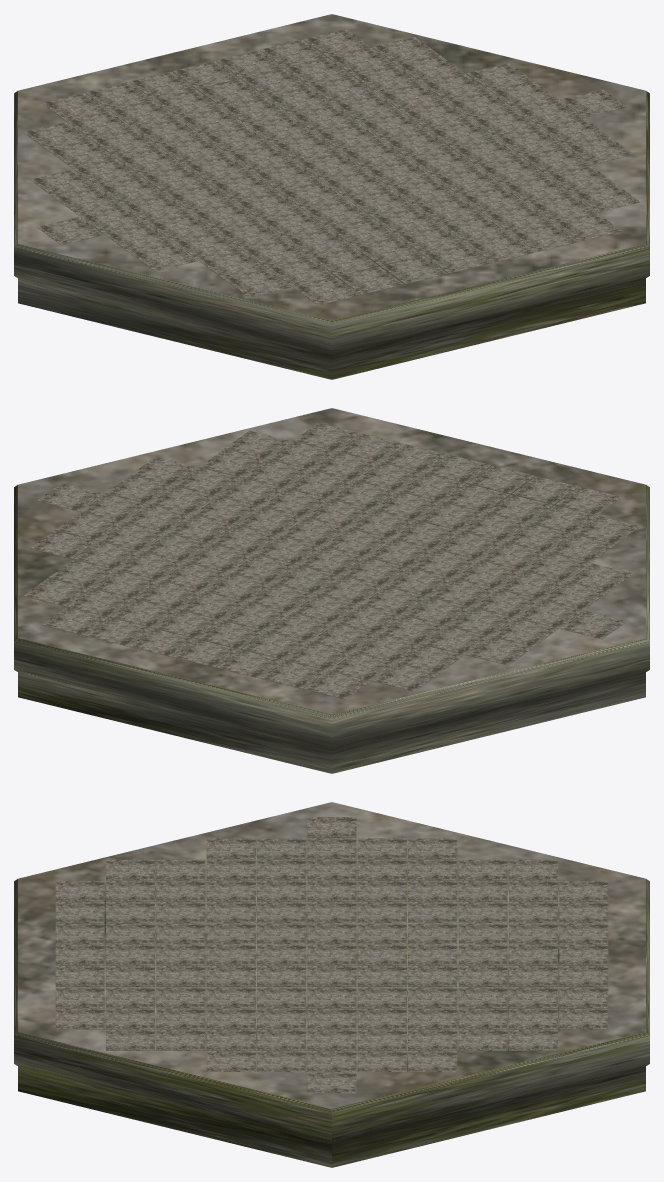
The model's file is pavilion_base.glb.
3 renders of one model, top to bottom at view 1: azimuth 30°, elevation 25°; view 2: azimuth 150°, elevation 25°; view 3: azimuth 270°, elevation 25°, orthographic.
Visible parts, largest first — view 1: pavilion_base0; view 2: pavilion_base0; view 3: pavilion_base0.
Part boxes in pixels (x1,y1,x2,y2): pavilion_base0: (14, 14, 649, 379); pavilion_base0: (14, 408, 649, 773); pavilion_base0: (14, 802, 649, 1167).
Bounding box in the file's own units: 14.58 × 1.31 × 12.63.
1 material, 1 textured.
